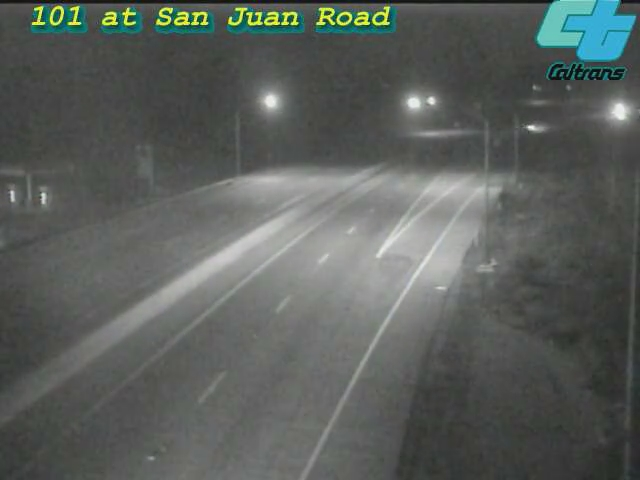vehicle: (505, 103, 555, 153), (595, 86, 640, 136)
